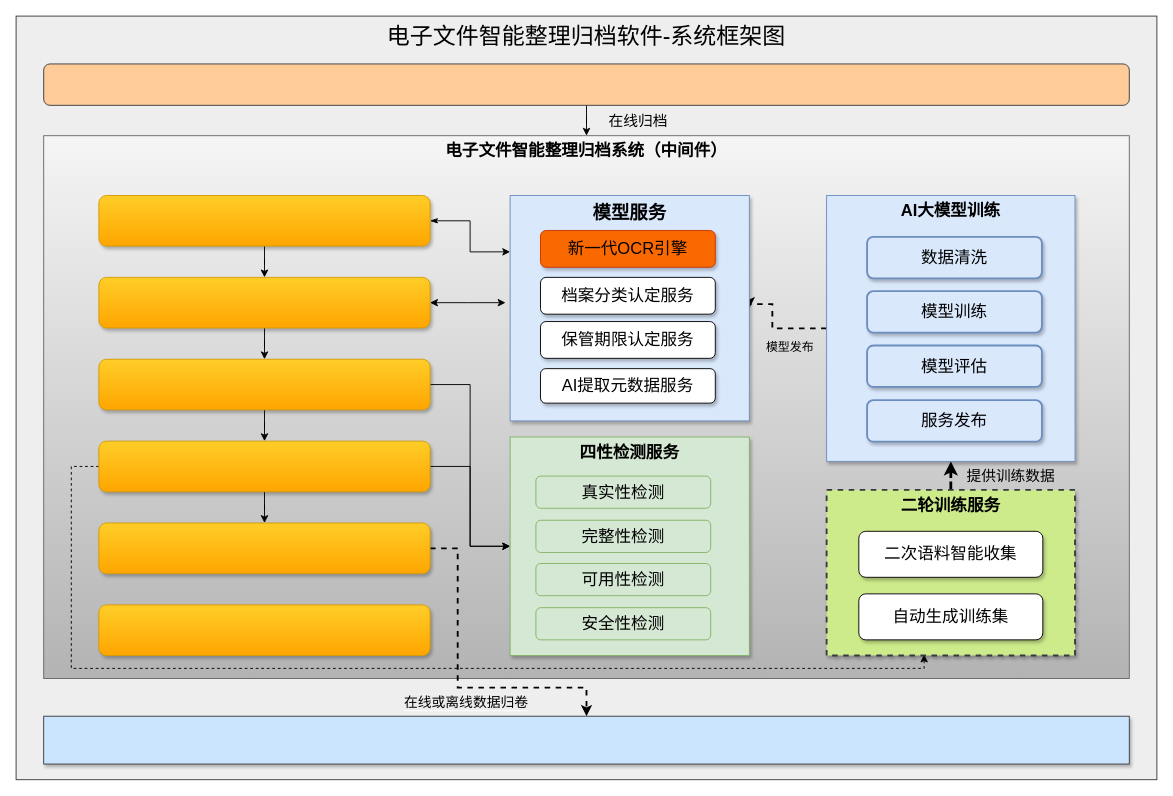
This 1173x796 diagram has some shape labels left out. The shapes that lost their labels are listed below. From the top down, each one's centre as x and y in pixels, then its label:
pixel 586 84: 上游业务系统OA、一网通办、财务...
pixel 265 222: 智能接收（捕获、录入、转换）
pixel 265 303: 智能整理（组件、编号、封装）
pixel 265 385: 数据移交（检测、登记、提交）
pixel 265 467: 数据成果（接收检测、接收登记、确认接收）
pixel 265 549: 归档（离线打包-符合归档要求数据包）
pixel 265 631: 系统管理
pixel 587 741: 各单位综合档案管理系统
